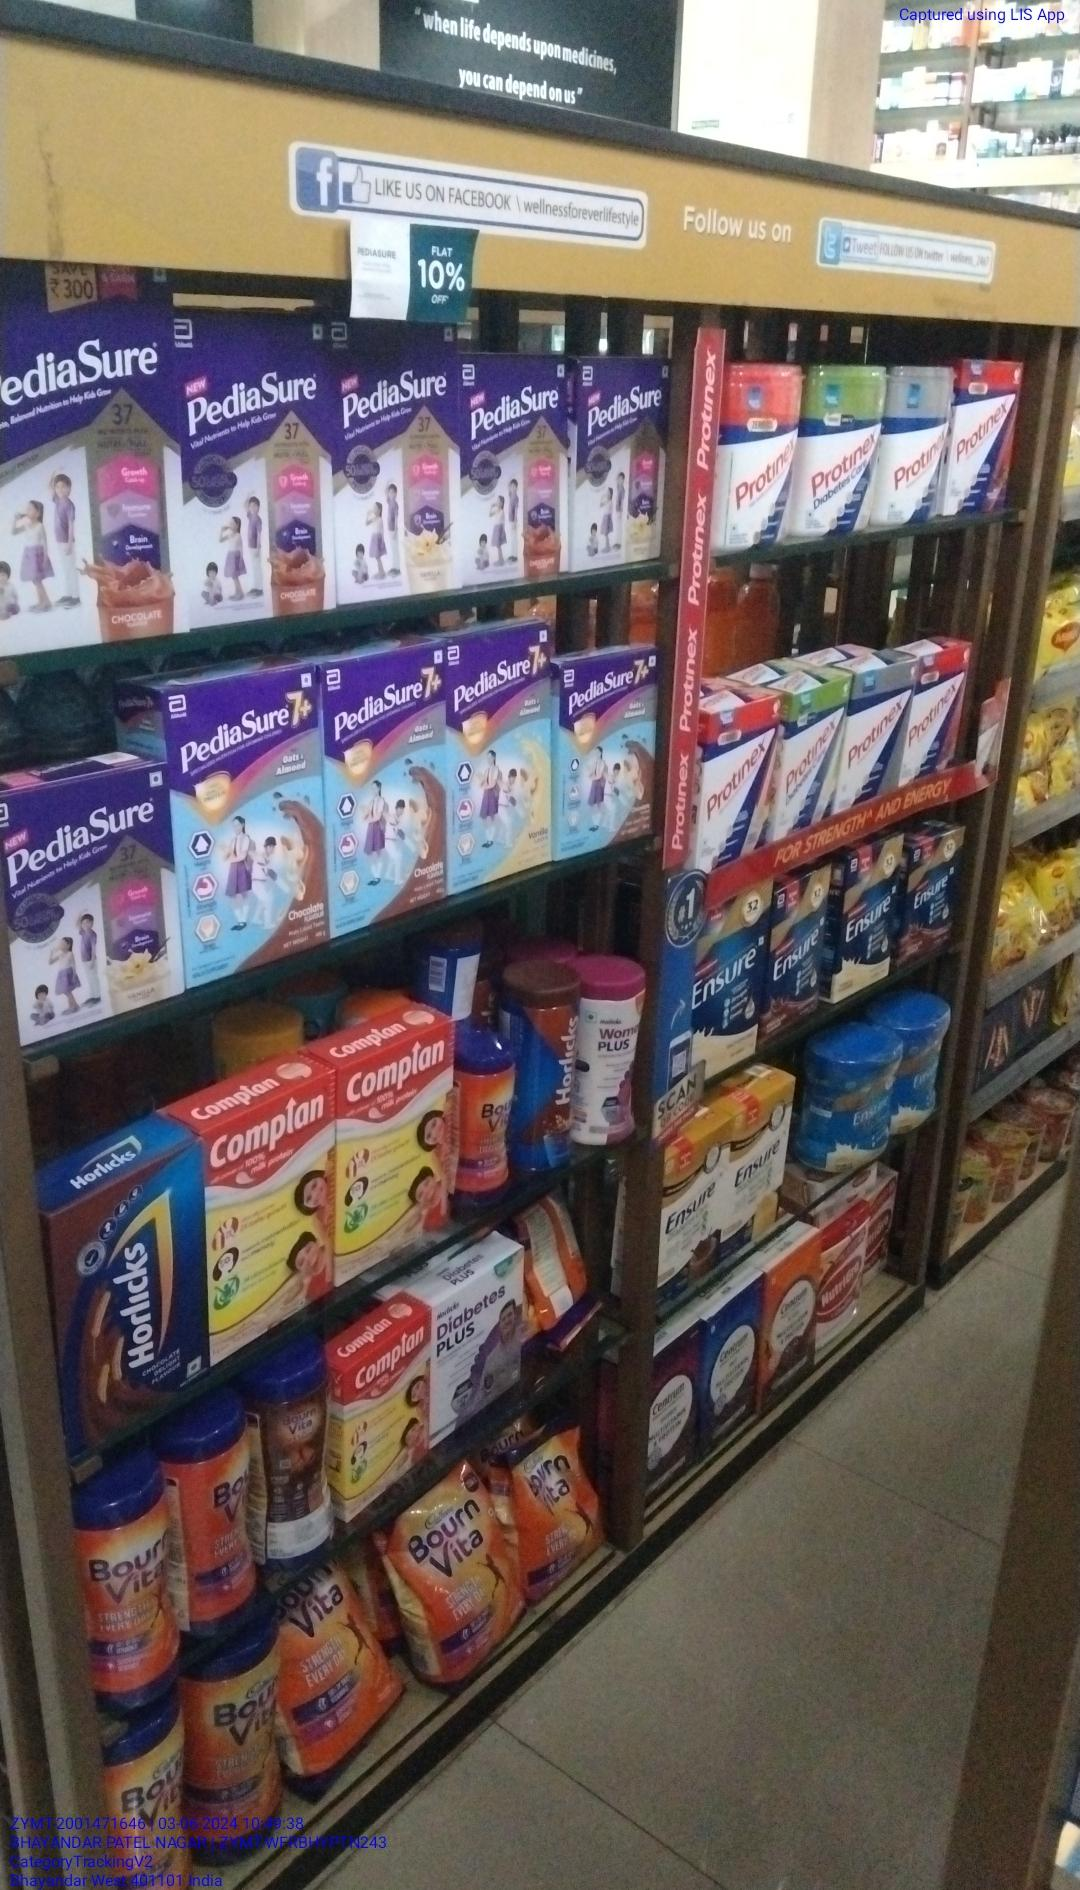BOURN_VITA_FIVE_STAR_MAGIC_500_G_JAR: (264, 1346, 332, 1571)
PEDIASURE_7_PLUS_CHOCOLATE_400_G_PACK: (563, 644, 661, 853)
PEDIASURE_CHOCOLATE_500_G_PACK: (461, 357, 558, 582)
PEDIASURE_VANILLA_500_G_PACK: (3, 765, 160, 1028), (571, 347, 671, 563)
PROTINEX_CHOCOLATE_400_G_JAR: (949, 360, 1020, 505)
PROTINEX_ORIGINAL_400_G_JAR: (881, 371, 945, 526)
PROTINEX_VANILLA_400_G_JAR: (707, 365, 797, 549)
